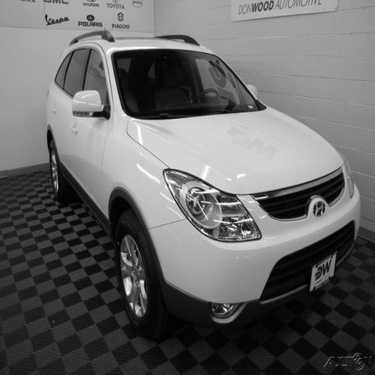car: (63, 7, 363, 319)
